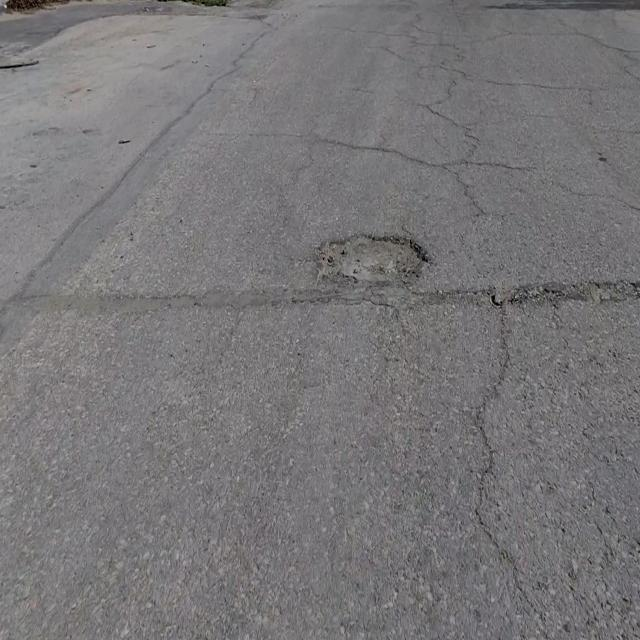Potholes: (315, 228, 431, 288)
